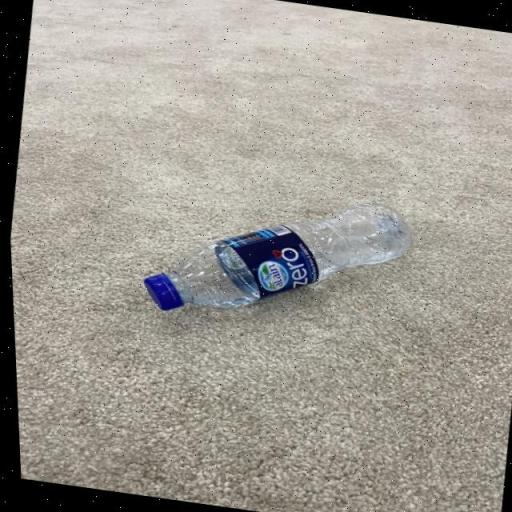plastic: (132, 170, 420, 348)
